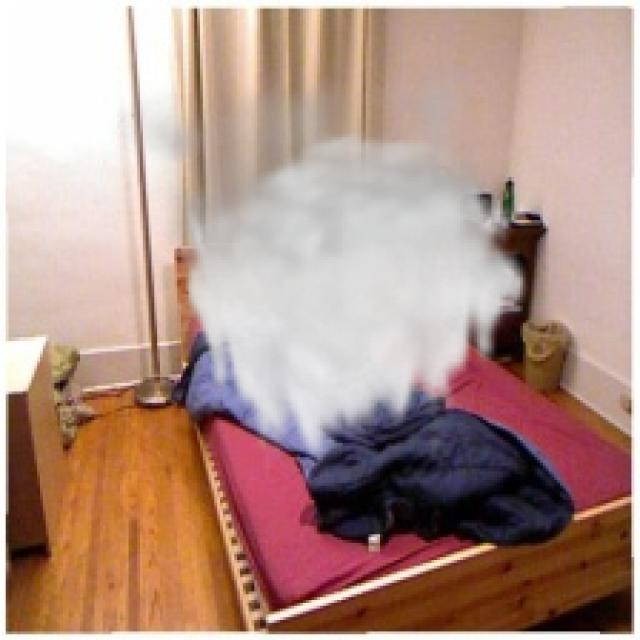smoke: (109, 51, 532, 468)
